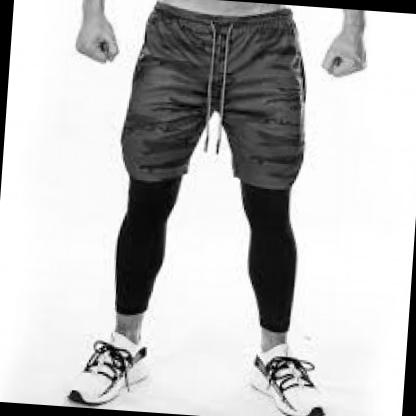ankle: (264, 347, 268, 352), (139, 341, 142, 345)
heel: (147, 366, 150, 371), (255, 375, 258, 379)
left_foot: (67, 326, 157, 410)
pinky: (77, 383, 80, 387), (320, 399, 322, 403)
right_foot: (250, 337, 332, 416)
toe: (93, 392, 96, 396), (303, 405, 305, 409)
